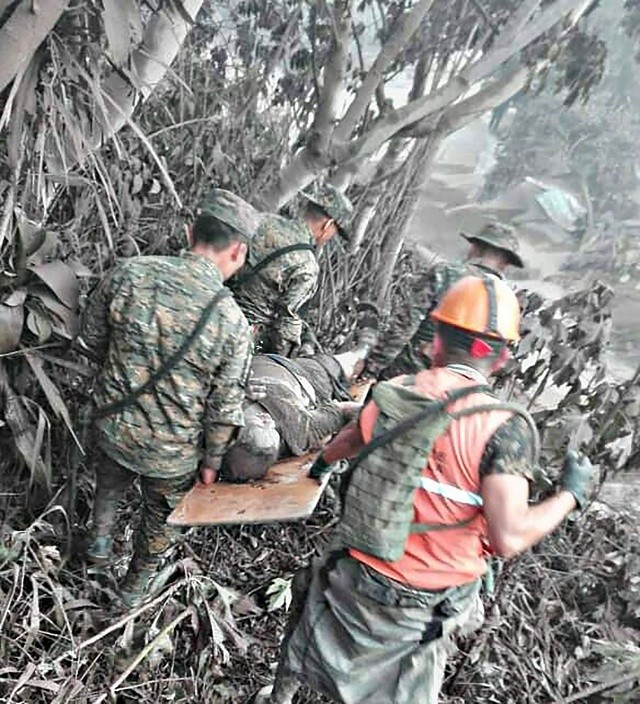BukanKorban: (271, 273, 597, 704), (74, 187, 260, 617), (373, 219, 525, 384), (226, 184, 354, 358)
Korban: (217, 301, 383, 482)
